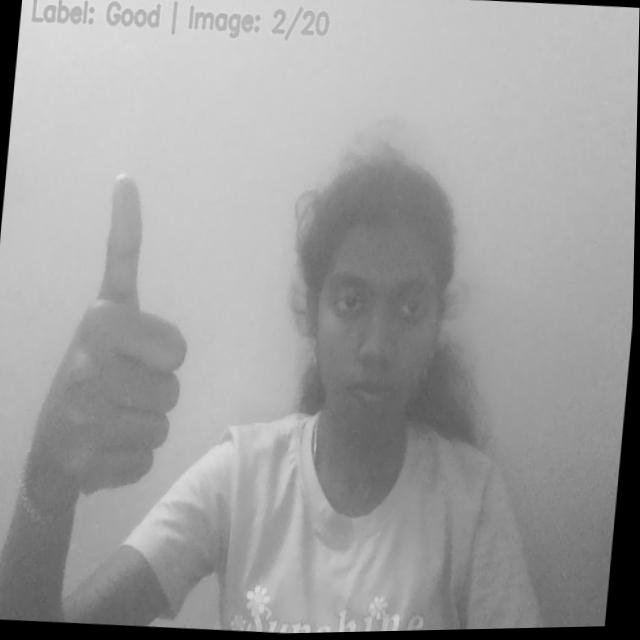Good: (16, 158, 218, 509)
